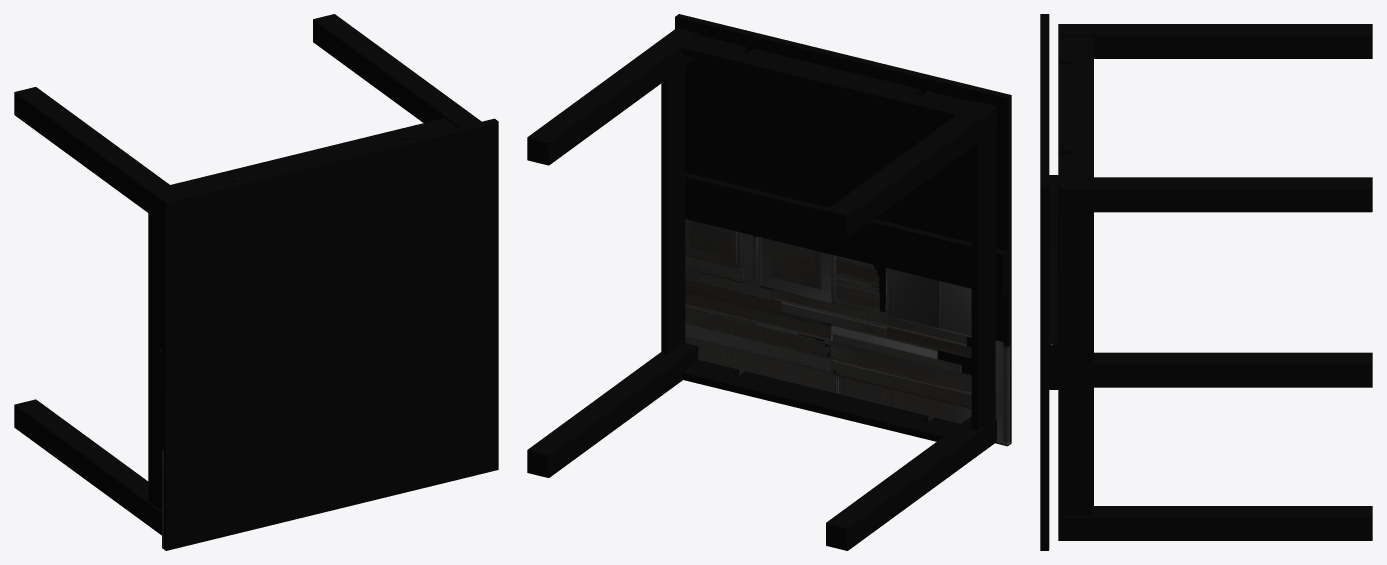
3 views of the same model, side by side, from view 1: azimuth 30°, elevation 25°; view 2: azimuth 150°, elevation 25°; view 3: azimuth 270°, elevation 25° (orthographic). The views are drawn at different scales.
Size of the model in its own units: 0.6823 by 0.6823 by 0.561.
